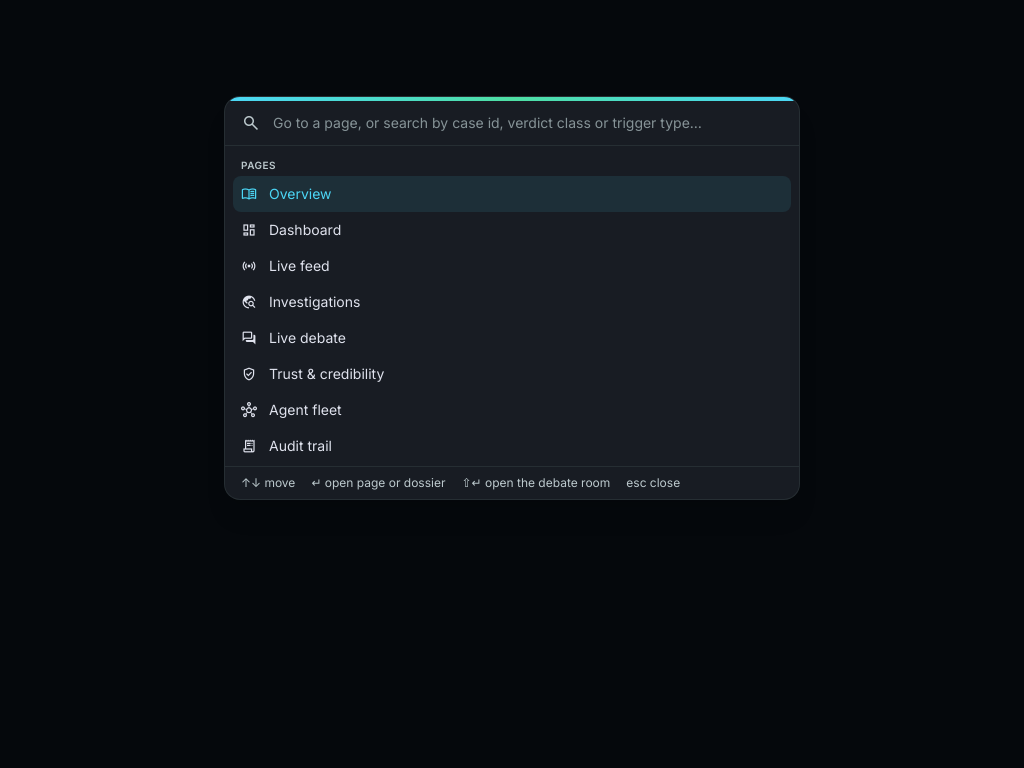
Test case: CommandPalette › filters pages as you type, without asking the server until typing pauses
This screenshot has width=1024, height=768.
Replace the text in the dropdown named "Search pages and investigations" with "aud": [528, 123] box [273, 113, 783, 133]
Wait 250 ms
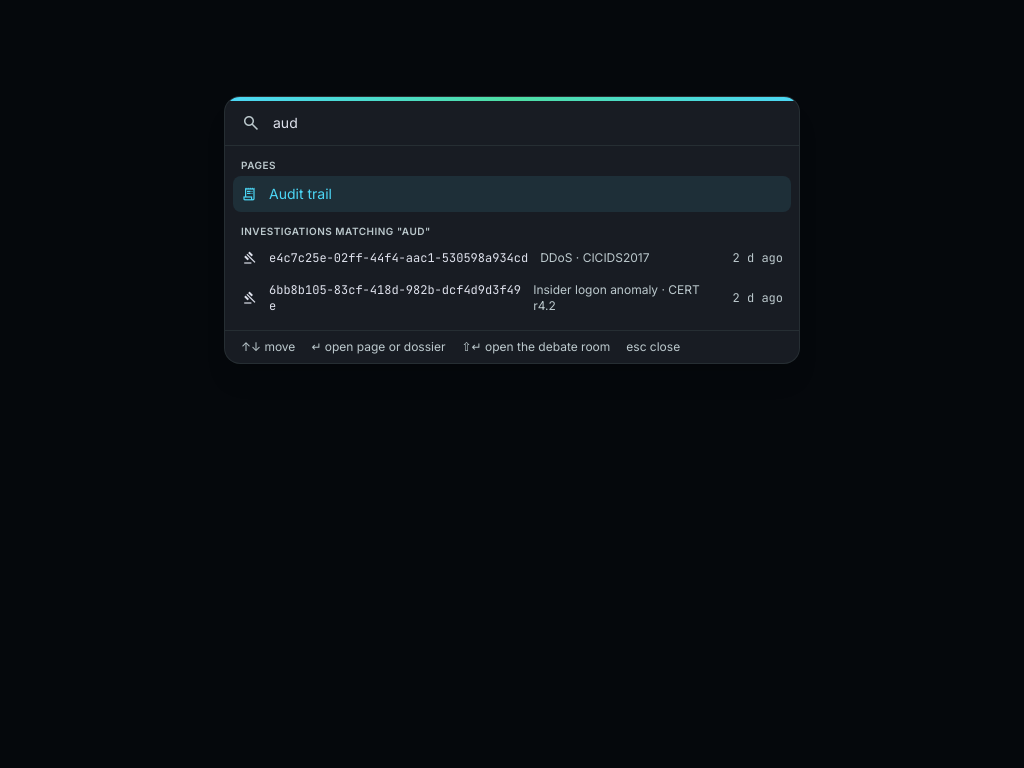
Expected: the option "Audit trail" is shown, [233, 176, 791, 212]
Expected: the option "Dashboard" is gone
